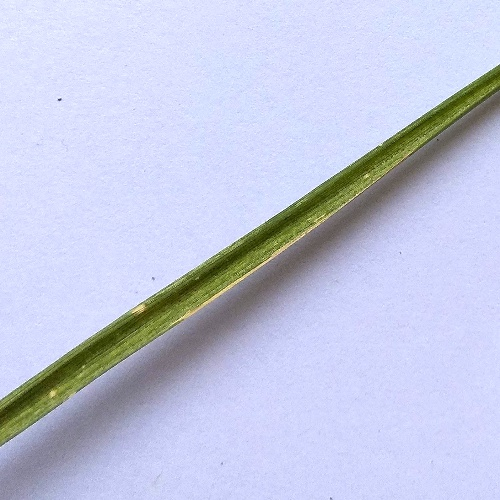Busuk Leher: (129, 300, 149, 322), (42, 385, 62, 402), (362, 165, 374, 188)
